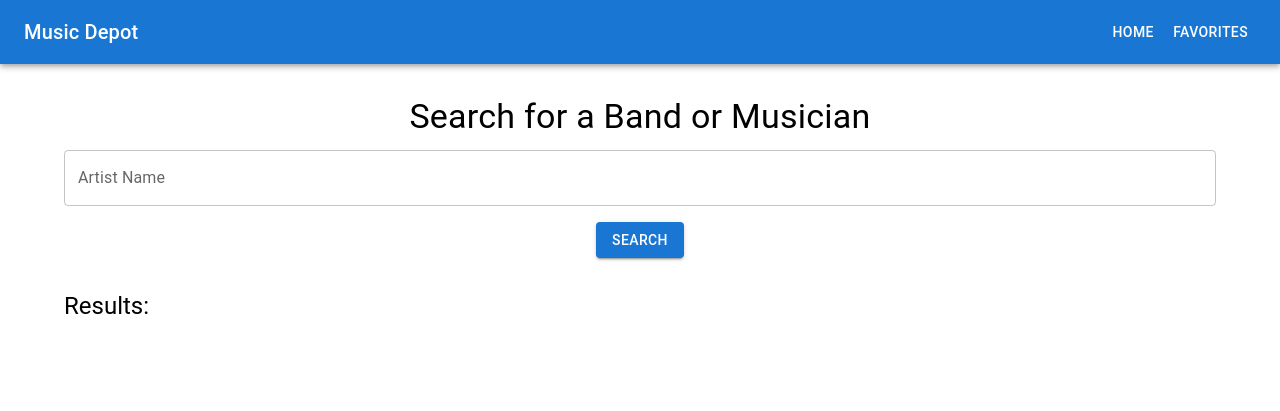
Scenario: Search Page Sad Path › should handle API errors
Type "Nirvana" into the field labelled "Artist Name" at point(640, 178), box [64,150,1216,206]
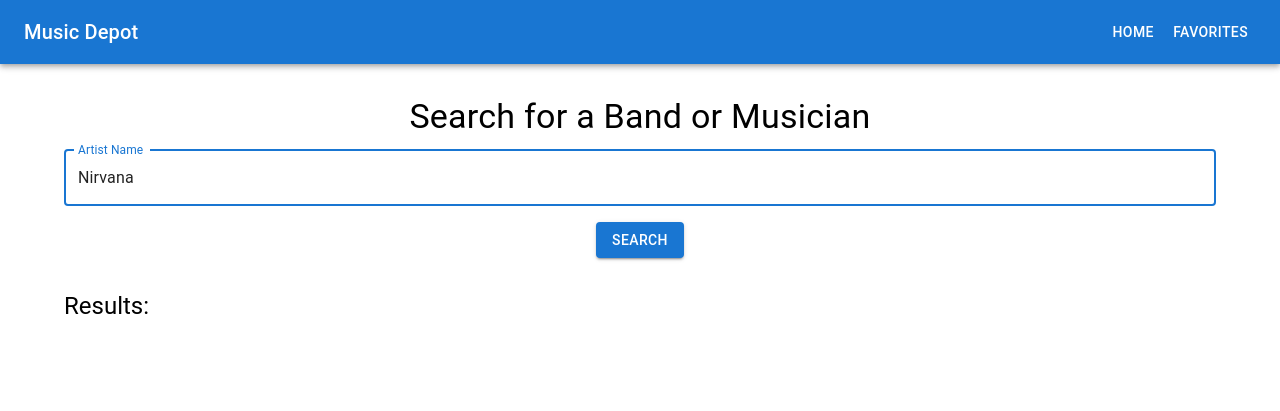
Click the button "Search" at point(640, 241), box [596,222,684,259]
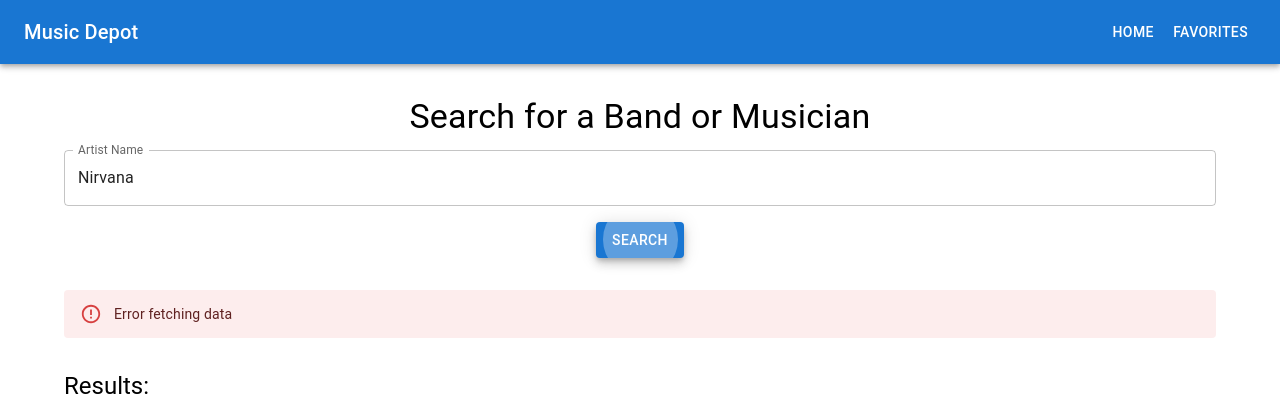
Result: the text "Error fetching data" is shown at [114,306,232,322]
